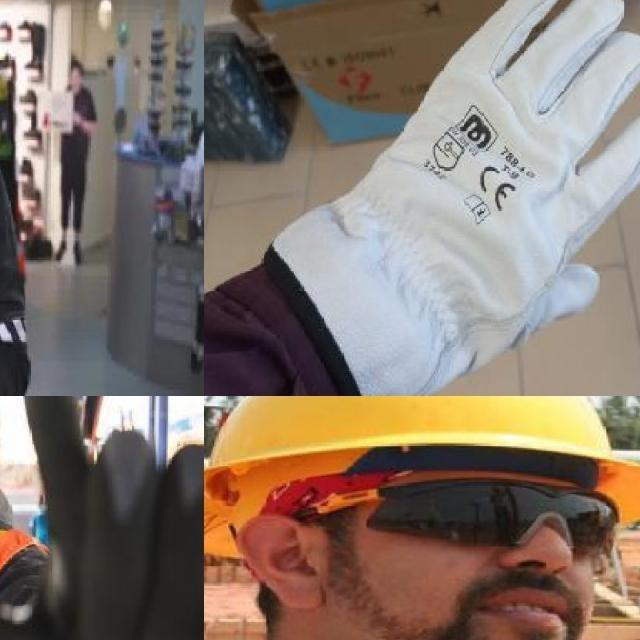apron: (295, 0, 640, 396), (0, 396, 204, 640)
